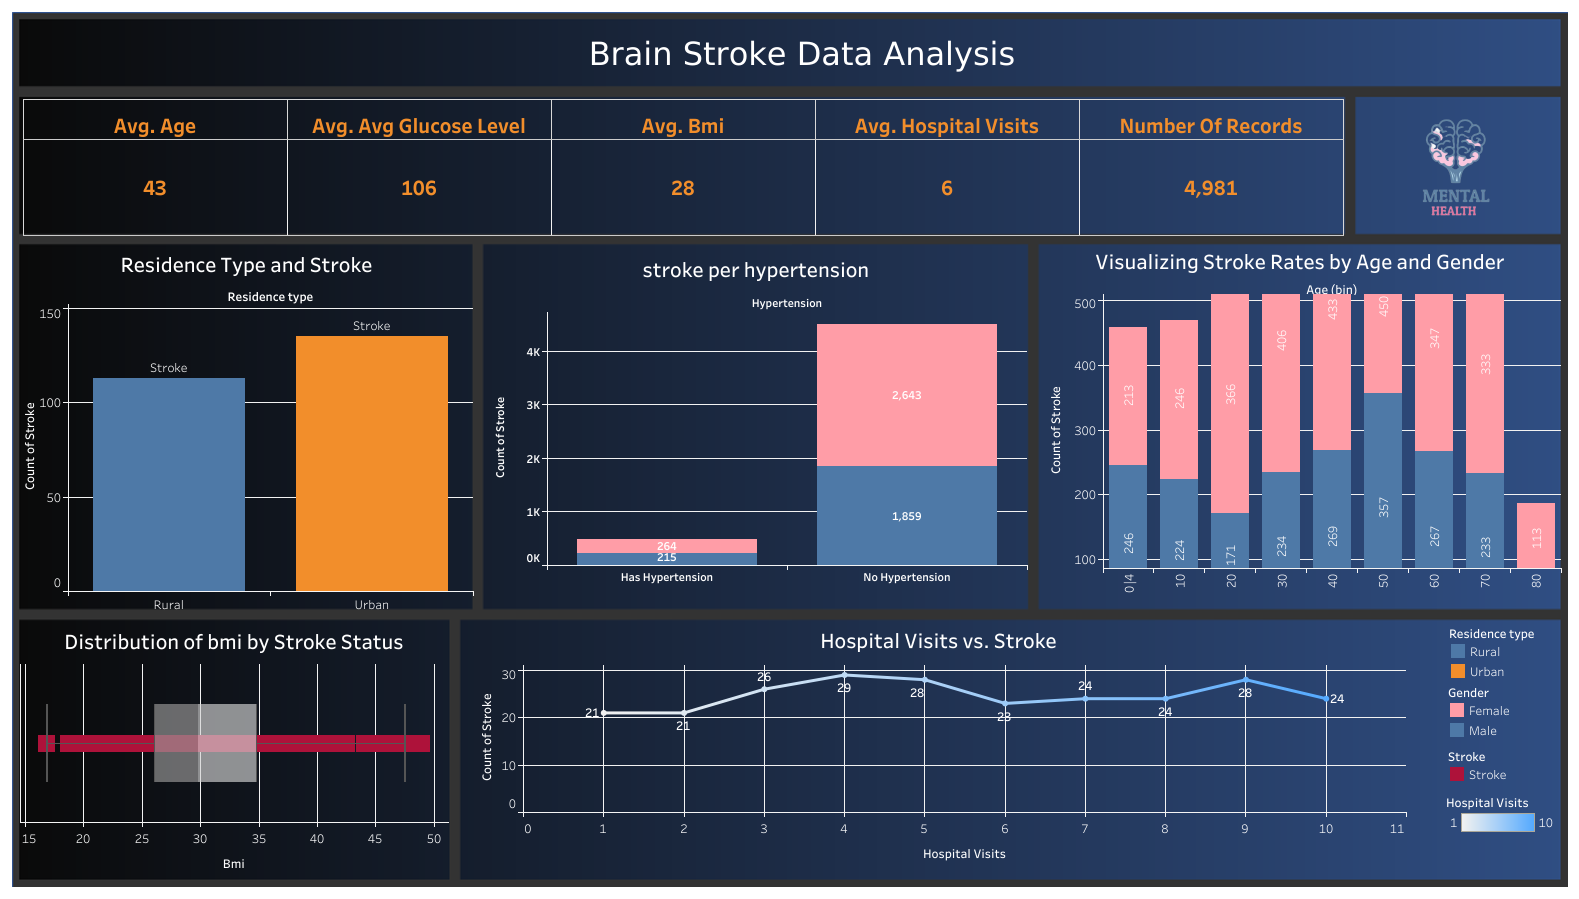

Layout of this report page (visuals, bound fields, positions):
{"tool":"tableau","page":{"name":"Dashboard 3","canvas":[1580,900],"ordinal":0},"visuals":[{"type":"image","param":"Image/HR background.png","box":[8,8,1564,884]},{"type":"text","box":[495,30,614,48]},{"type":"image","param":"Image/rb_2149067638.png","box":[1355,96,204,136]},{"type":"worksheet","title":"kpis","mark":"Automatic","box":[23,99,1321,137]},{"type":"worksheet","title":"Visualizing Stroke Rates by Age and Gender","mark":"Automatic","rows":["stroke"],"cols":["Age (bin)"],"box":[1039,241,522,367]},{"type":"worksheet","title":"Residence Type and Stroke","mark":"Bar","rows":["stroke"],"cols":["Residence_type"],"box":[20,244,453,369]},{"type":"worksheet","title":"stroke per hypertension","mark":"Automatic","rows":["stroke"],"cols":["hypertension"],"box":[485,249,542,356]},{"type":"worksheet","title":"Hospital Visits vs. Stroke","mark":"Automatic","rows":["stroke"],"cols":["hospital_visits"],"box":[468,620,941,252]},{"type":"worksheet","title":"Distribution of bmi by Stroke Status","mark":"Square","cols":["bmi"],"box":[20,621,428,258]},{"type":"legend","title":"Residence Type and Stroke","param":"[federated.1lm3neh18zz79s180c616002mknj].[none:Residence_type:nk]","box":[1448,622,121,92]},{"type":"legend","title":"Visualizing Stroke Rates by Age and Gender","param":"[federated.1lm3neh18zz79s180c616002mknj].[none:gender:nk]","box":[1447,681,111,90]},{"type":"legend","title":"Distribution of bmi by Stroke Status","param":"[federated.1lm3neh18zz79s180c616002mknj].[none:stroke:nk]","box":[1447,745,117,53]},{"type":"legend","title":"Hospital Visits vs. Stroke","param":"[federated.1lm3neh18zz79s180c616002mknj].[none:hospital_visits:qk]","box":[1446,789,112,79]}]}

Visuals, with their boxes in screenshot pixels (x1, y1, x2, y2), scaled from the page's 1580x900 canvas onto the 1579x899 screenshot:
image: box(8, 8, 1571, 891)
text: box(495, 30, 1108, 78)
image: box(1354, 96, 1558, 232)
"kpis" worksheet: box(23, 99, 1343, 236)
"Visualizing Stroke Rates by Age and Gender" worksheet: box(1038, 241, 1560, 607)
"Residence Type and Stroke" worksheet (Bar marks): box(20, 244, 473, 612)
"stroke per hypertension" worksheet: box(485, 249, 1026, 604)
"Hospital Visits vs. Stroke" worksheet: box(468, 619, 1408, 871)
"Distribution of bmi by Stroke Status" worksheet (Square marks): box(20, 620, 448, 878)
"Residence Type and Stroke" legend: box(1447, 621, 1568, 713)
"Visualizing Stroke Rates by Age and Gender" legend: box(1446, 680, 1557, 770)
"Distribution of bmi by Stroke Status" legend: box(1446, 744, 1563, 797)
"Hospital Visits vs. Stroke" legend: box(1445, 788, 1557, 867)
